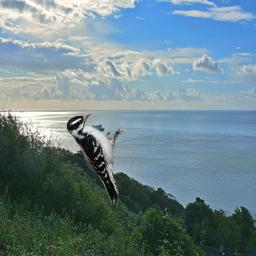Woodpecker: (66, 113, 125, 206)
